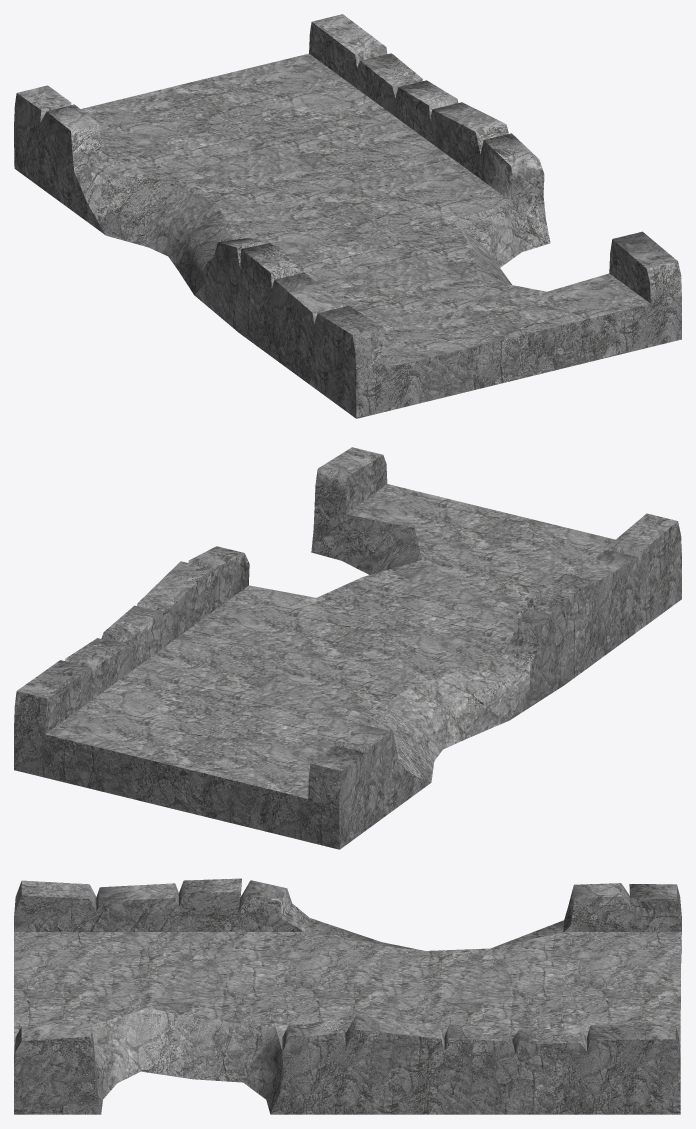
The model's file is materials_3_road_2.fbx.
3 views of the same model, one above another, from view 1: azimuth 30°, elevation 25°; view 2: azimuth 150°, elevation 25°; view 3: azimuth 270°, elevation 25° (orthographic). The views are drawn at different scales.
Visible parts, largest first — view 1: materials_3_road_2; view 2: materials_3_road_2; view 3: materials_3_road_2.
Boxes of the visible parts, bbox=[...] form: materials_3_road_2: bbox=[14, 14, 681, 418]; materials_3_road_2: bbox=[14, 447, 681, 849]; materials_3_road_2: bbox=[14, 878, 681, 1114].
Size of the model in its own units: 235 by 59.61 by 426.
